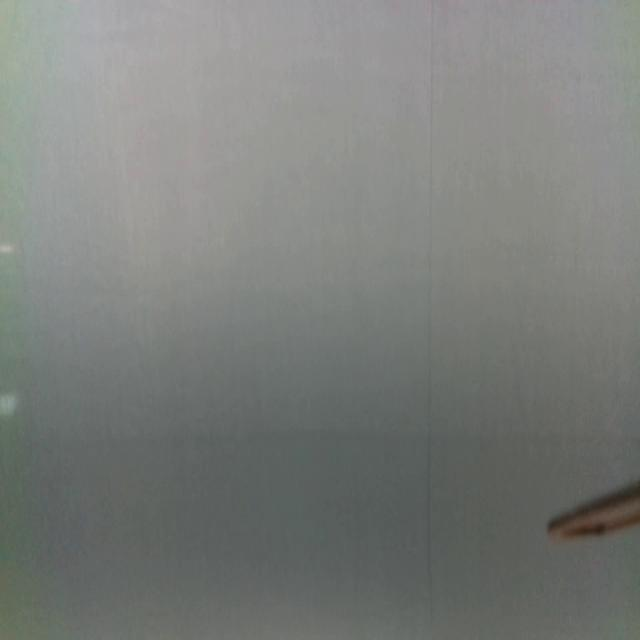color bleeding: (143, 417, 640, 460)
crease: (425, 8, 437, 570)
